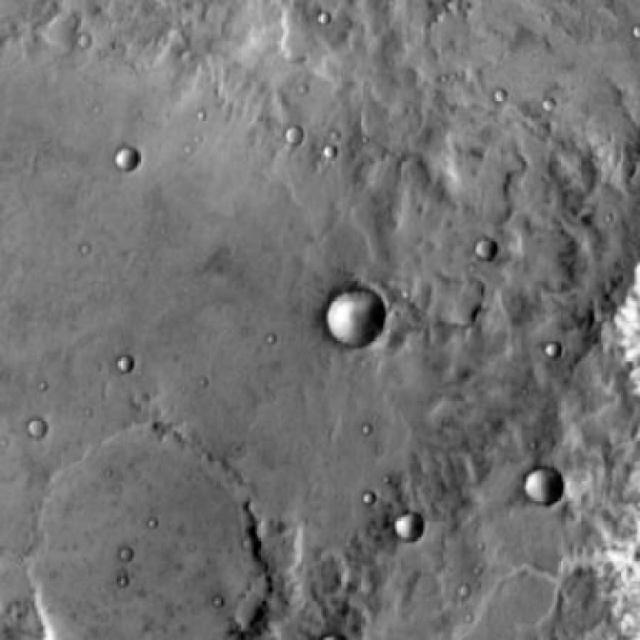crater: (32, 454, 280, 638), (322, 285, 382, 343), (522, 466, 563, 508), (396, 513, 422, 539), (117, 149, 138, 171), (476, 238, 496, 258), (286, 124, 305, 142), (322, 142, 338, 160), (29, 421, 45, 436)
